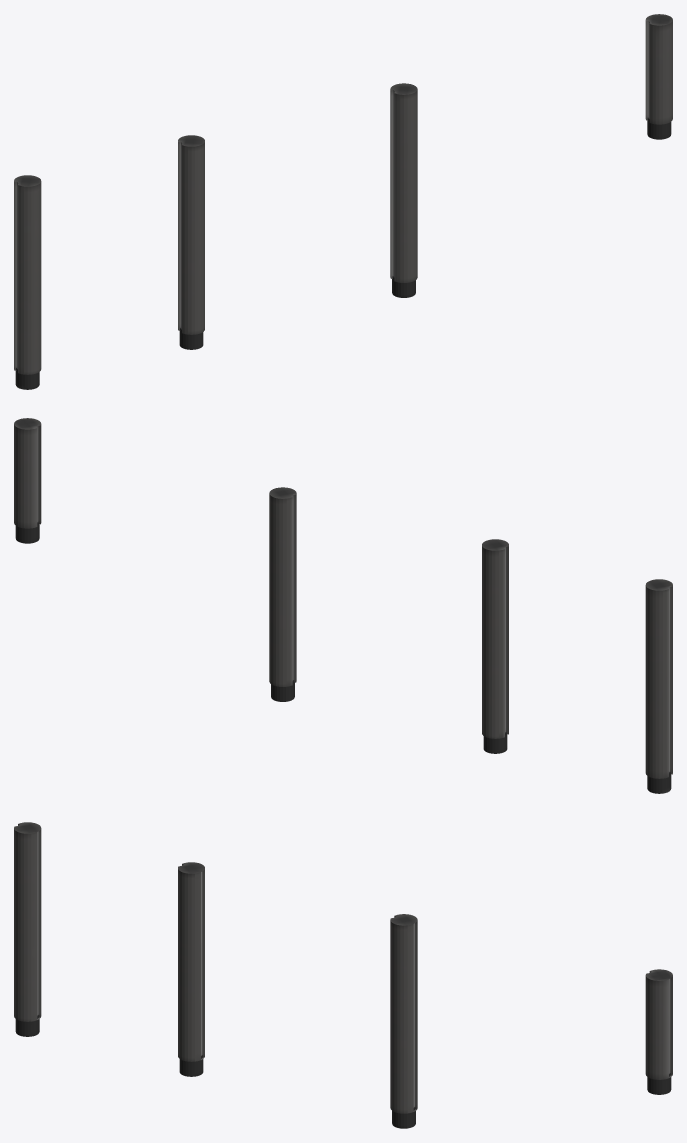
Rendered from 柱子备份.fbx.
3 renders of one model, top to bottom at view 1: azimuth 30°, elevation 25°; view 2: azimuth 150°, elevation 25°; view 3: azimuth 330°, elevation 25°, orthographic.
Visible parts, largest first — view 1: 柱体.004_Baked.001, 柱体.002_Baked.001, 柱体.003_Baked.001, 柱体.001_Baked.001; view 2: 柱体.004_Baked.001, 柱体.002_Baked.001, 柱体.003_Baked.001, 柱体.001_Baked.001; view 3: 柱体.004_Baked.001, 柱体.002_Baked.001, 柱体.003_Baked.001, 柱体.001_Baked.001.
Boxes of the visible parts, left/top/right/bottom form: 柱体.004_Baked.001: left=14, top=175, right=41, bottom=389; 柱体.002_Baked.001: left=390, top=83, right=417, bottom=297; 柱体.003_Baked.001: left=178, top=135, right=204, bottom=349; 柱体.001_Baked.001: left=645, top=14, right=672, bottom=139; 柱体.004_Baked.001: left=645, top=579, right=672, bottom=793; 柱体.002_Baked.001: left=269, top=487, right=296, bottom=701; 柱体.003_Baked.001: left=482, top=539, right=508, bottom=753; 柱体.001_Baked.001: left=14, top=418, right=41, bottom=543; 柱体.004_Baked.001: left=14, top=822, right=41, bottom=1036; 柱体.002_Baked.001: left=390, top=914, right=417, bottom=1128; 柱体.003_Baked.001: left=178, top=862, right=204, bottom=1076; 柱体.001_Baked.001: left=645, top=969, right=672, bottom=1094.
Size of the model in its own units: 14599 by 4491 by 527.
4 materials, 4 textured.
